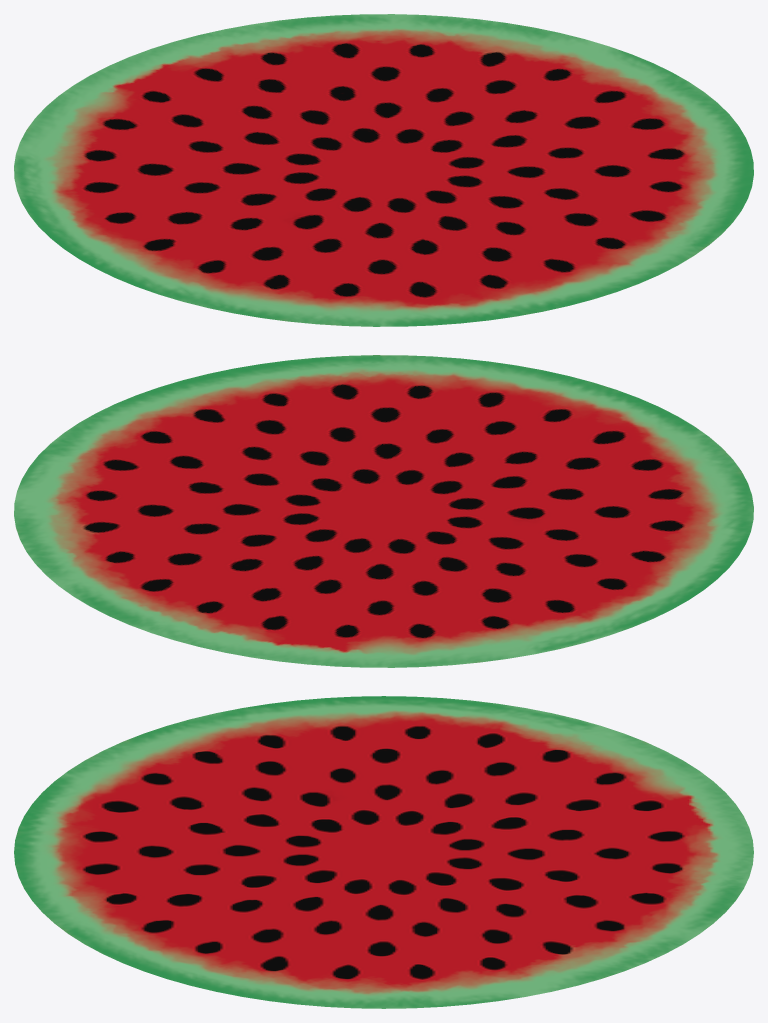
File: Plano.glb
3 views of the same model, one above another, from view 1: azimuth 30°, elevation 25°; view 2: azimuth 150°, elevation 25°; view 3: azimuth 270°, elevation 25° (orthographic).
Parts seen in each view (by area): view 1: pCylinder1; view 2: pCylinder1; view 3: pCylinder1.
Boxes of the visible parts, x1=… form: pCylinder1: x1=14, y1=14, x2=753, y2=326; pCylinder1: x1=14, y1=355, x2=753, y2=667; pCylinder1: x1=14, y1=696, x2=753, y2=1008.
Bounding box in the file's own units: 0.0197 × 4.36e-18 × 0.0197.
1 material, 1 textured.
